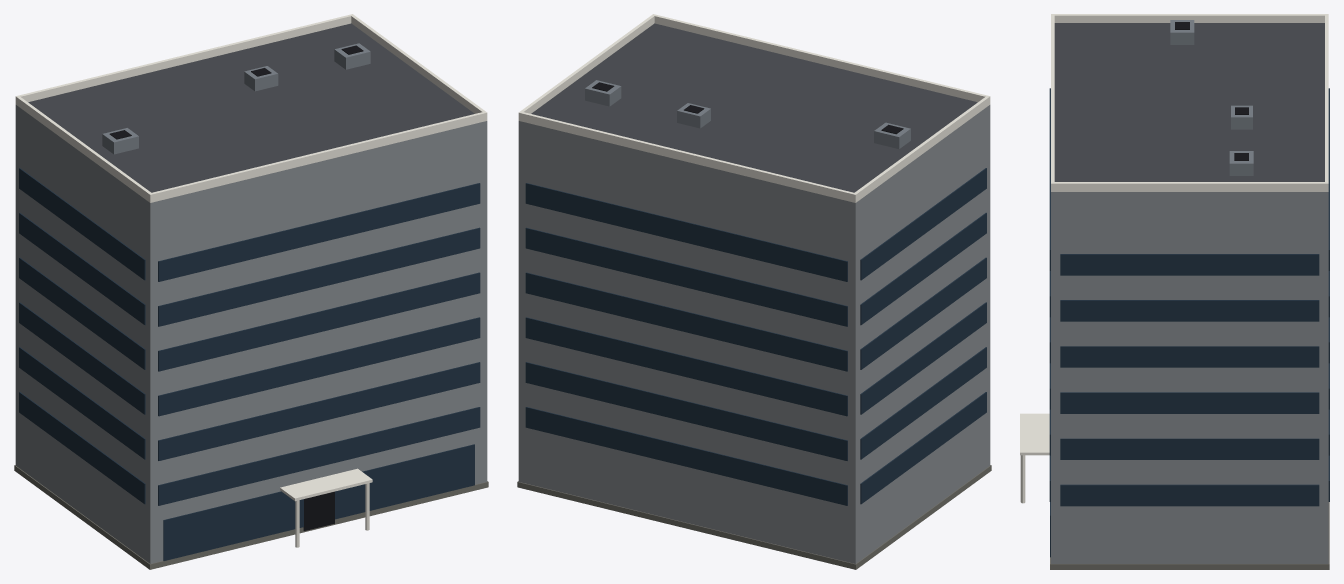
File: office_d.glb
3 renders of one model, left to right at view 1: azimuth 30°, elevation 25°; view 2: azimuth 150°, elevation 25°; view 3: azimuth 270°, elevation 25°, orthographic. The views are drawn at different scales.
Parts seen in each view (by area): view 1: office_d_Body; view 2: office_d_Body; view 3: office_d_Body.
Boxes of the visible parts, x1,y1,x2,y2 form: office_d_Body: (14,14,488,569); office_d_Body: (517,14,991,569); office_d_Body: (1020,14,1329,569).
Bounding box in the file's own units: 26.16 × 27.99 × 20.08.
